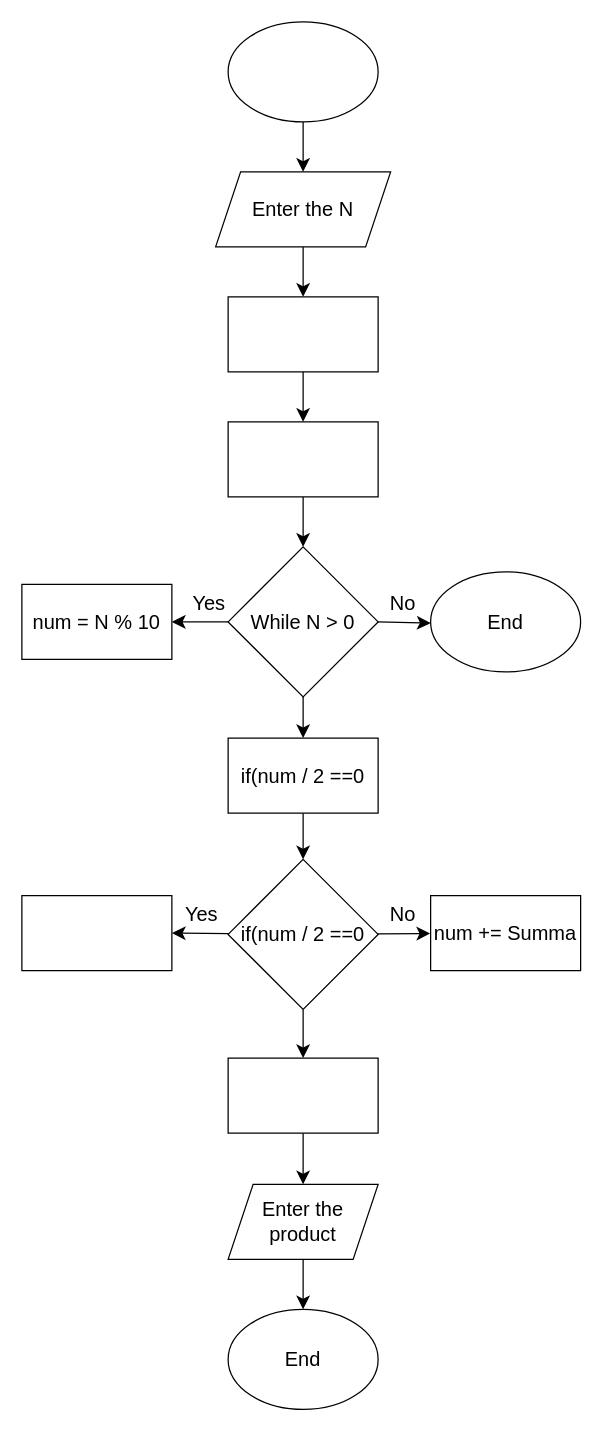
The diagram is 603 pixels wide and 1431 high, and some of its shapes have lost their labels. The centre of each missing label's shape, as x and y in pixels:
"Multiply = 1" goes at (302,459).
"N = N / 10" goes at (302,1095).
"num += Multiply" goes at (96,932).
"Start" goes at (302,71).
"Summa = 1" goes at (302,334).
